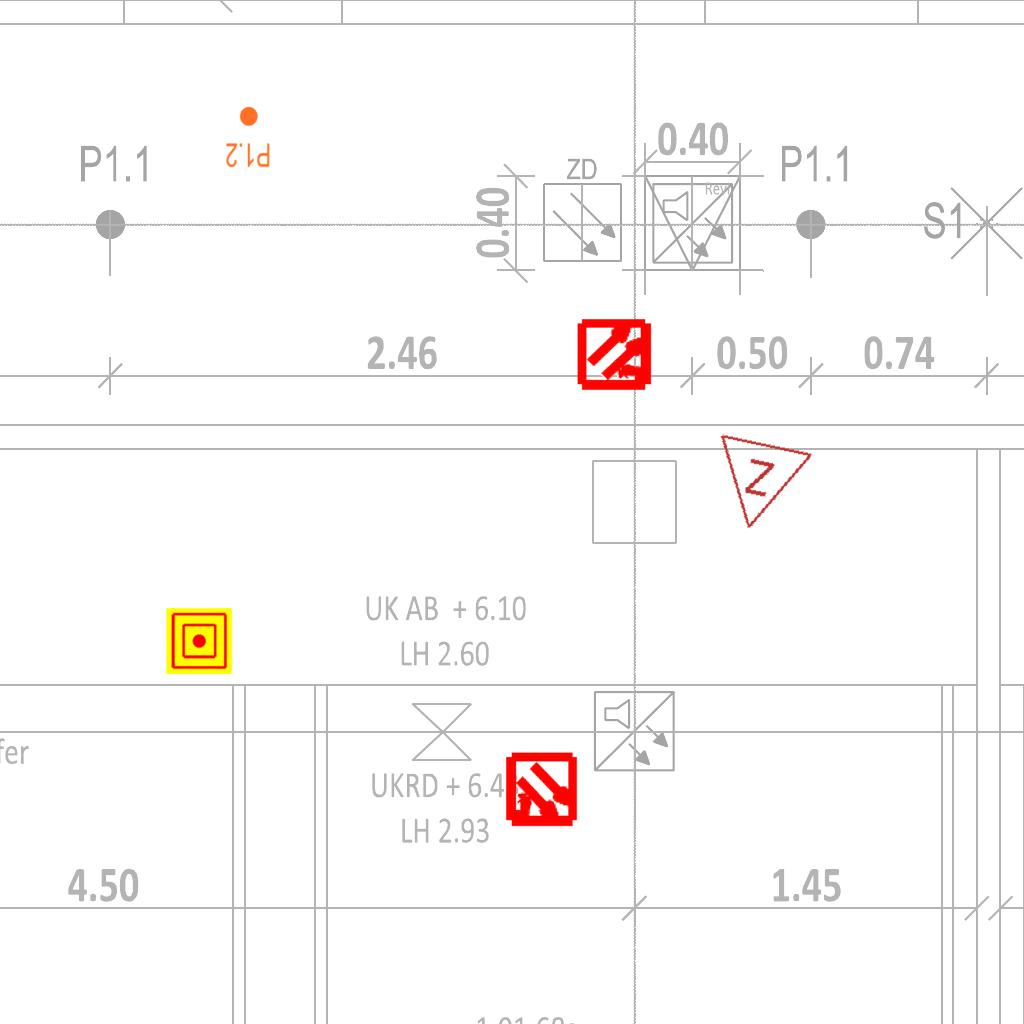Downlight_LED_Einbauleuchten_Flur: (225, 105, 271, 169)
NAM-Nichtautomatischer_Melder: (166, 608, 232, 674)
OT_Multisensormelder_(Kombination_RMO_WMD): (560, 298, 673, 411), (485, 735, 598, 848)
Zimmersignalleuchte: (700, 426, 818, 546)
